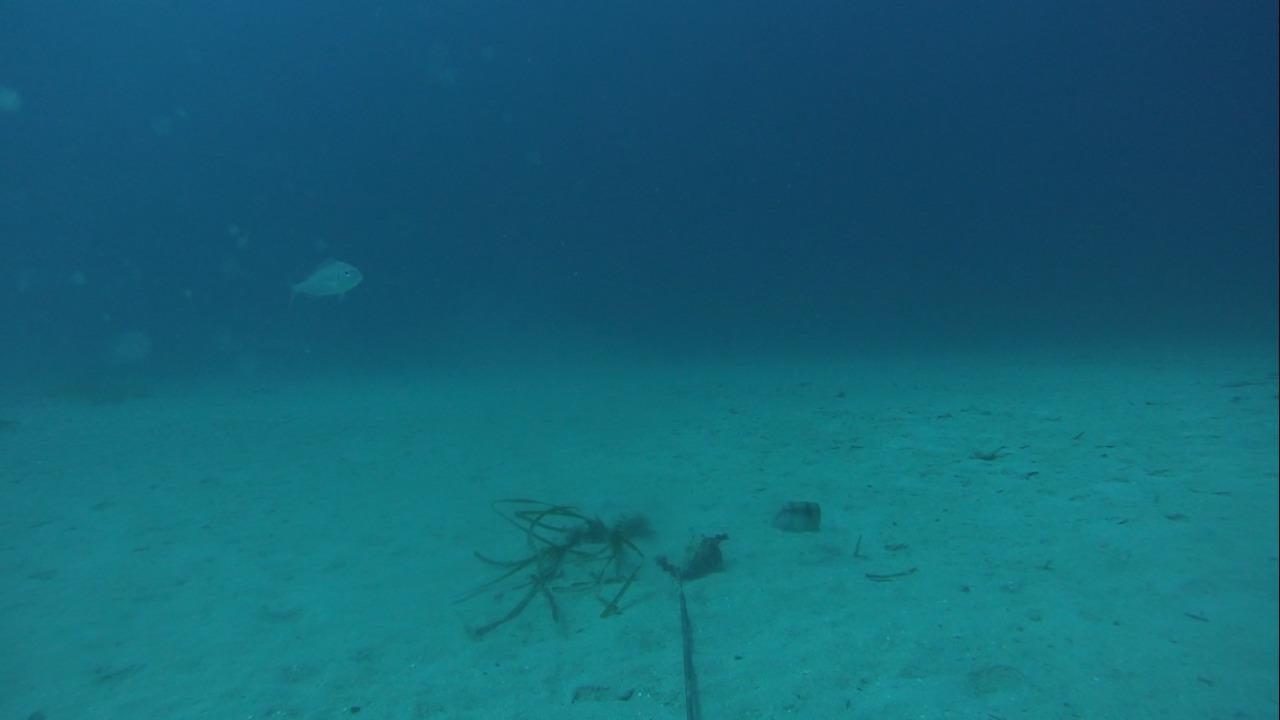pagellus: (277, 254, 367, 307)
raor: (763, 493, 828, 537), (764, 494, 828, 537)
